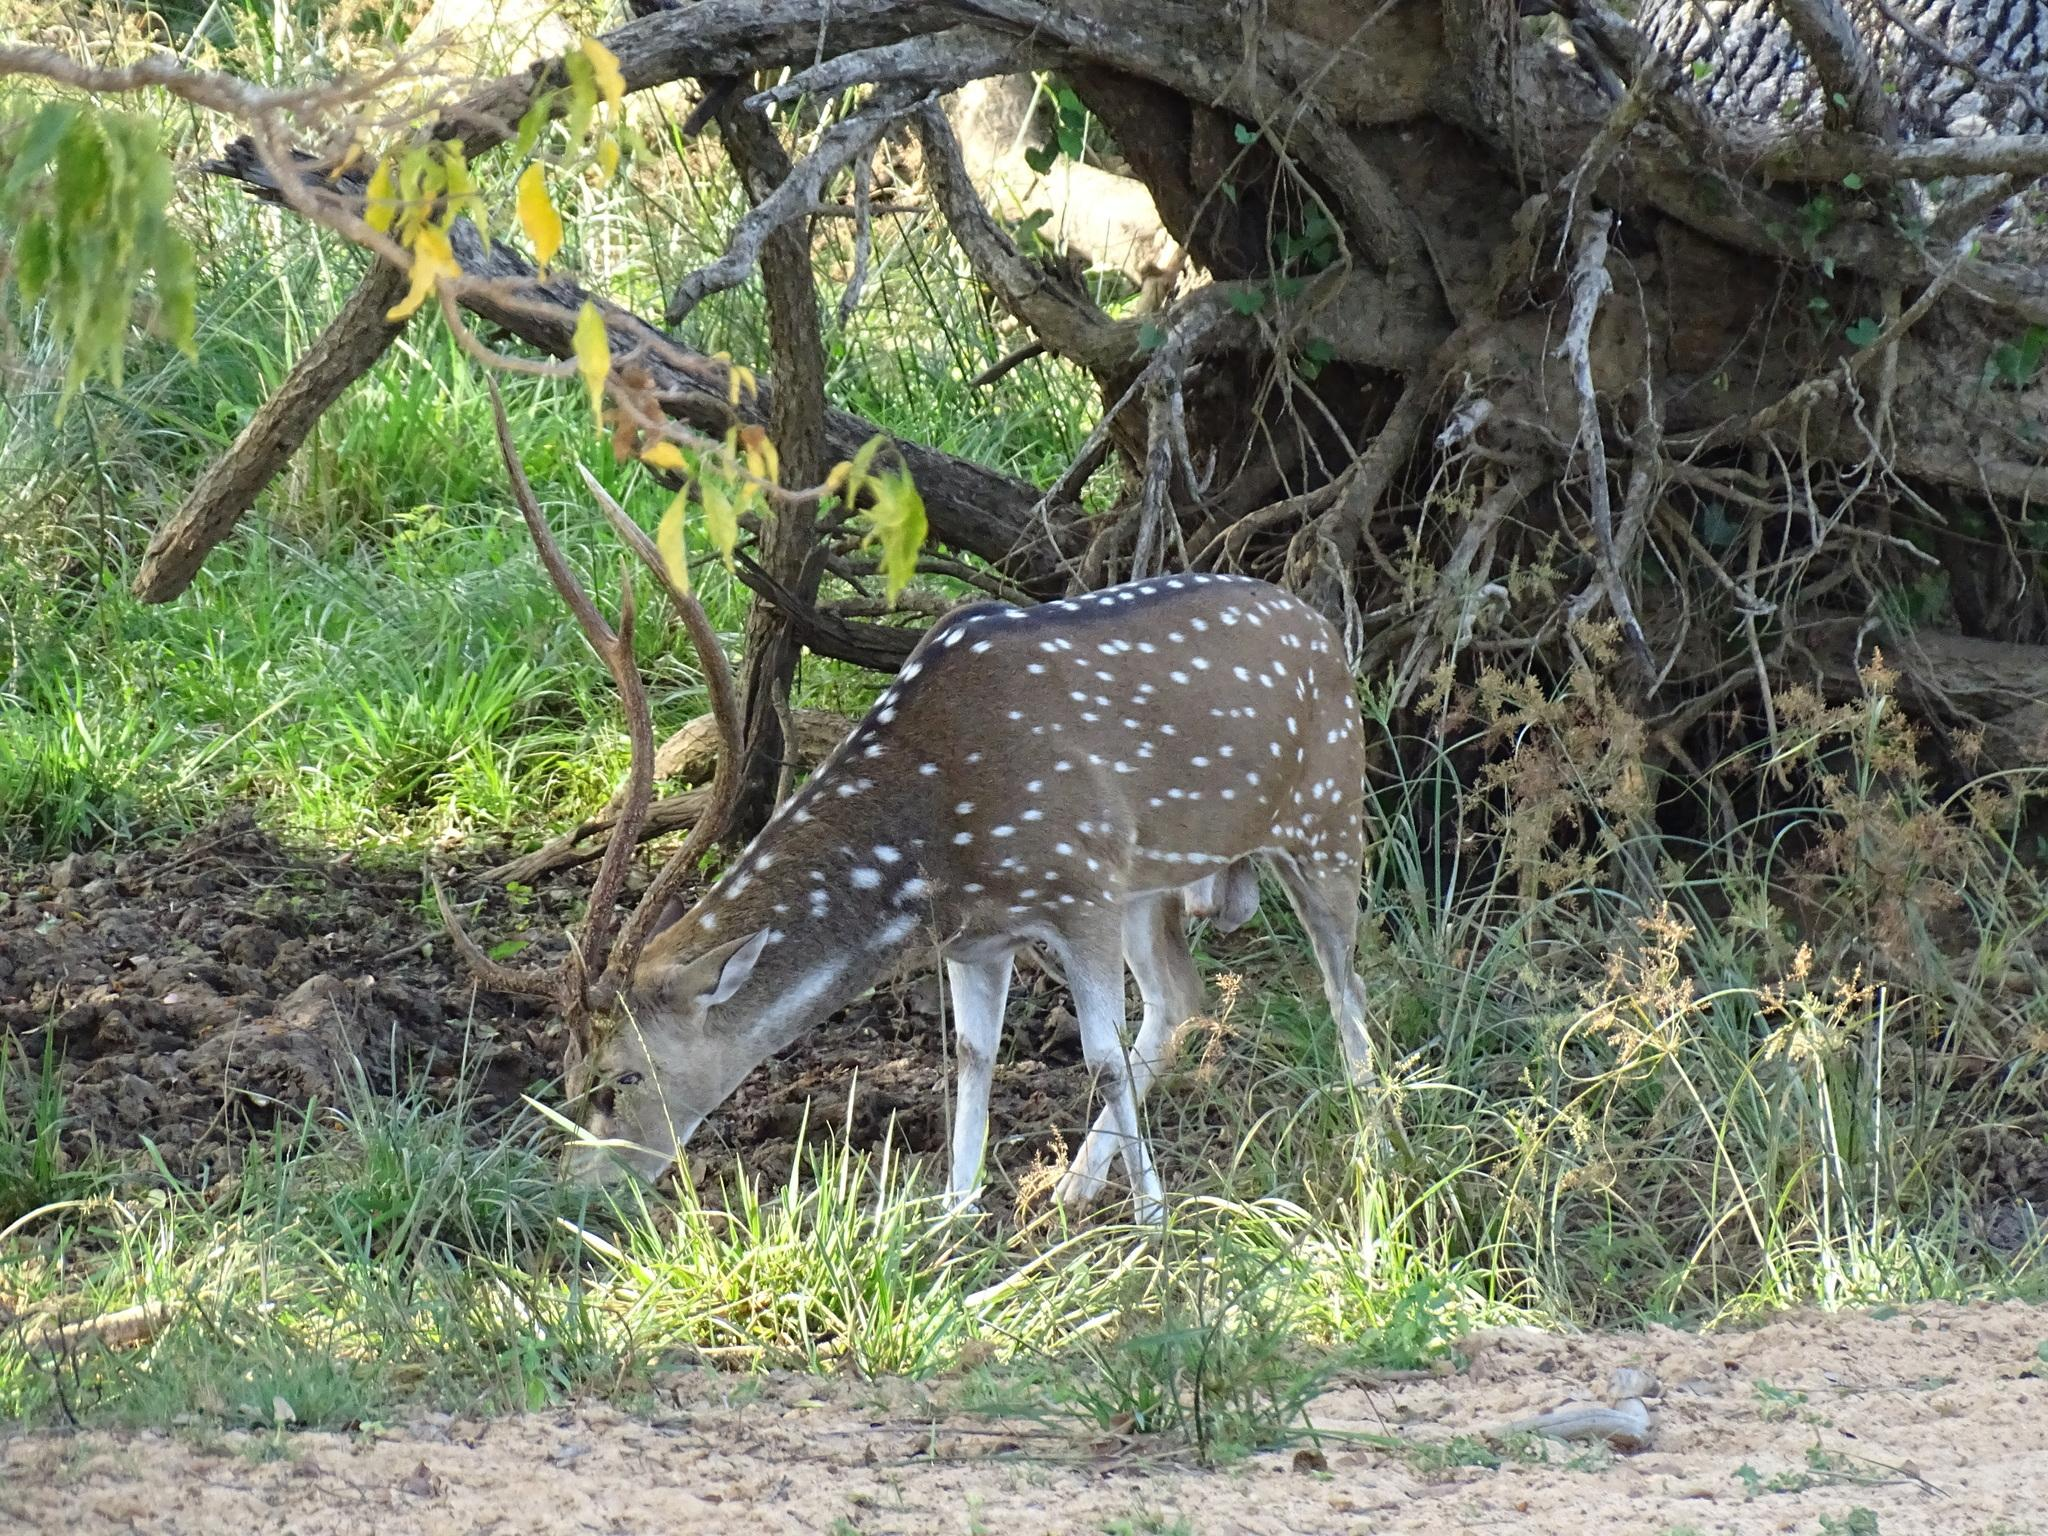Deer: (448, 382, 1372, 1221)
